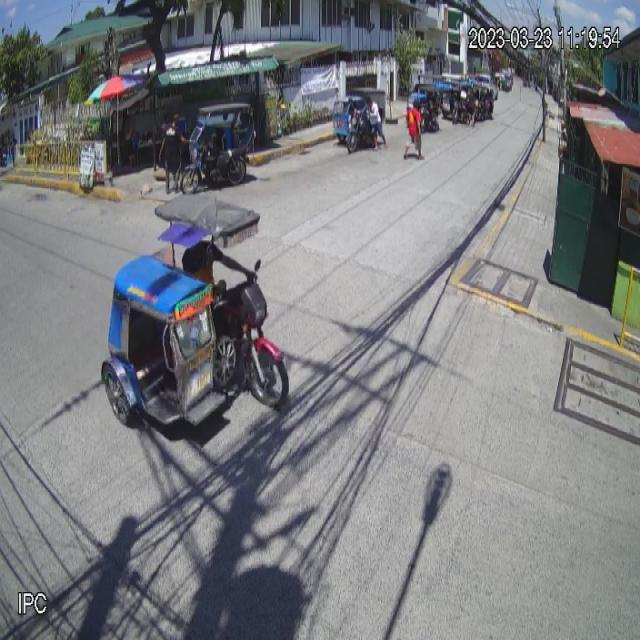Tricycle: (100, 192, 290, 427)
